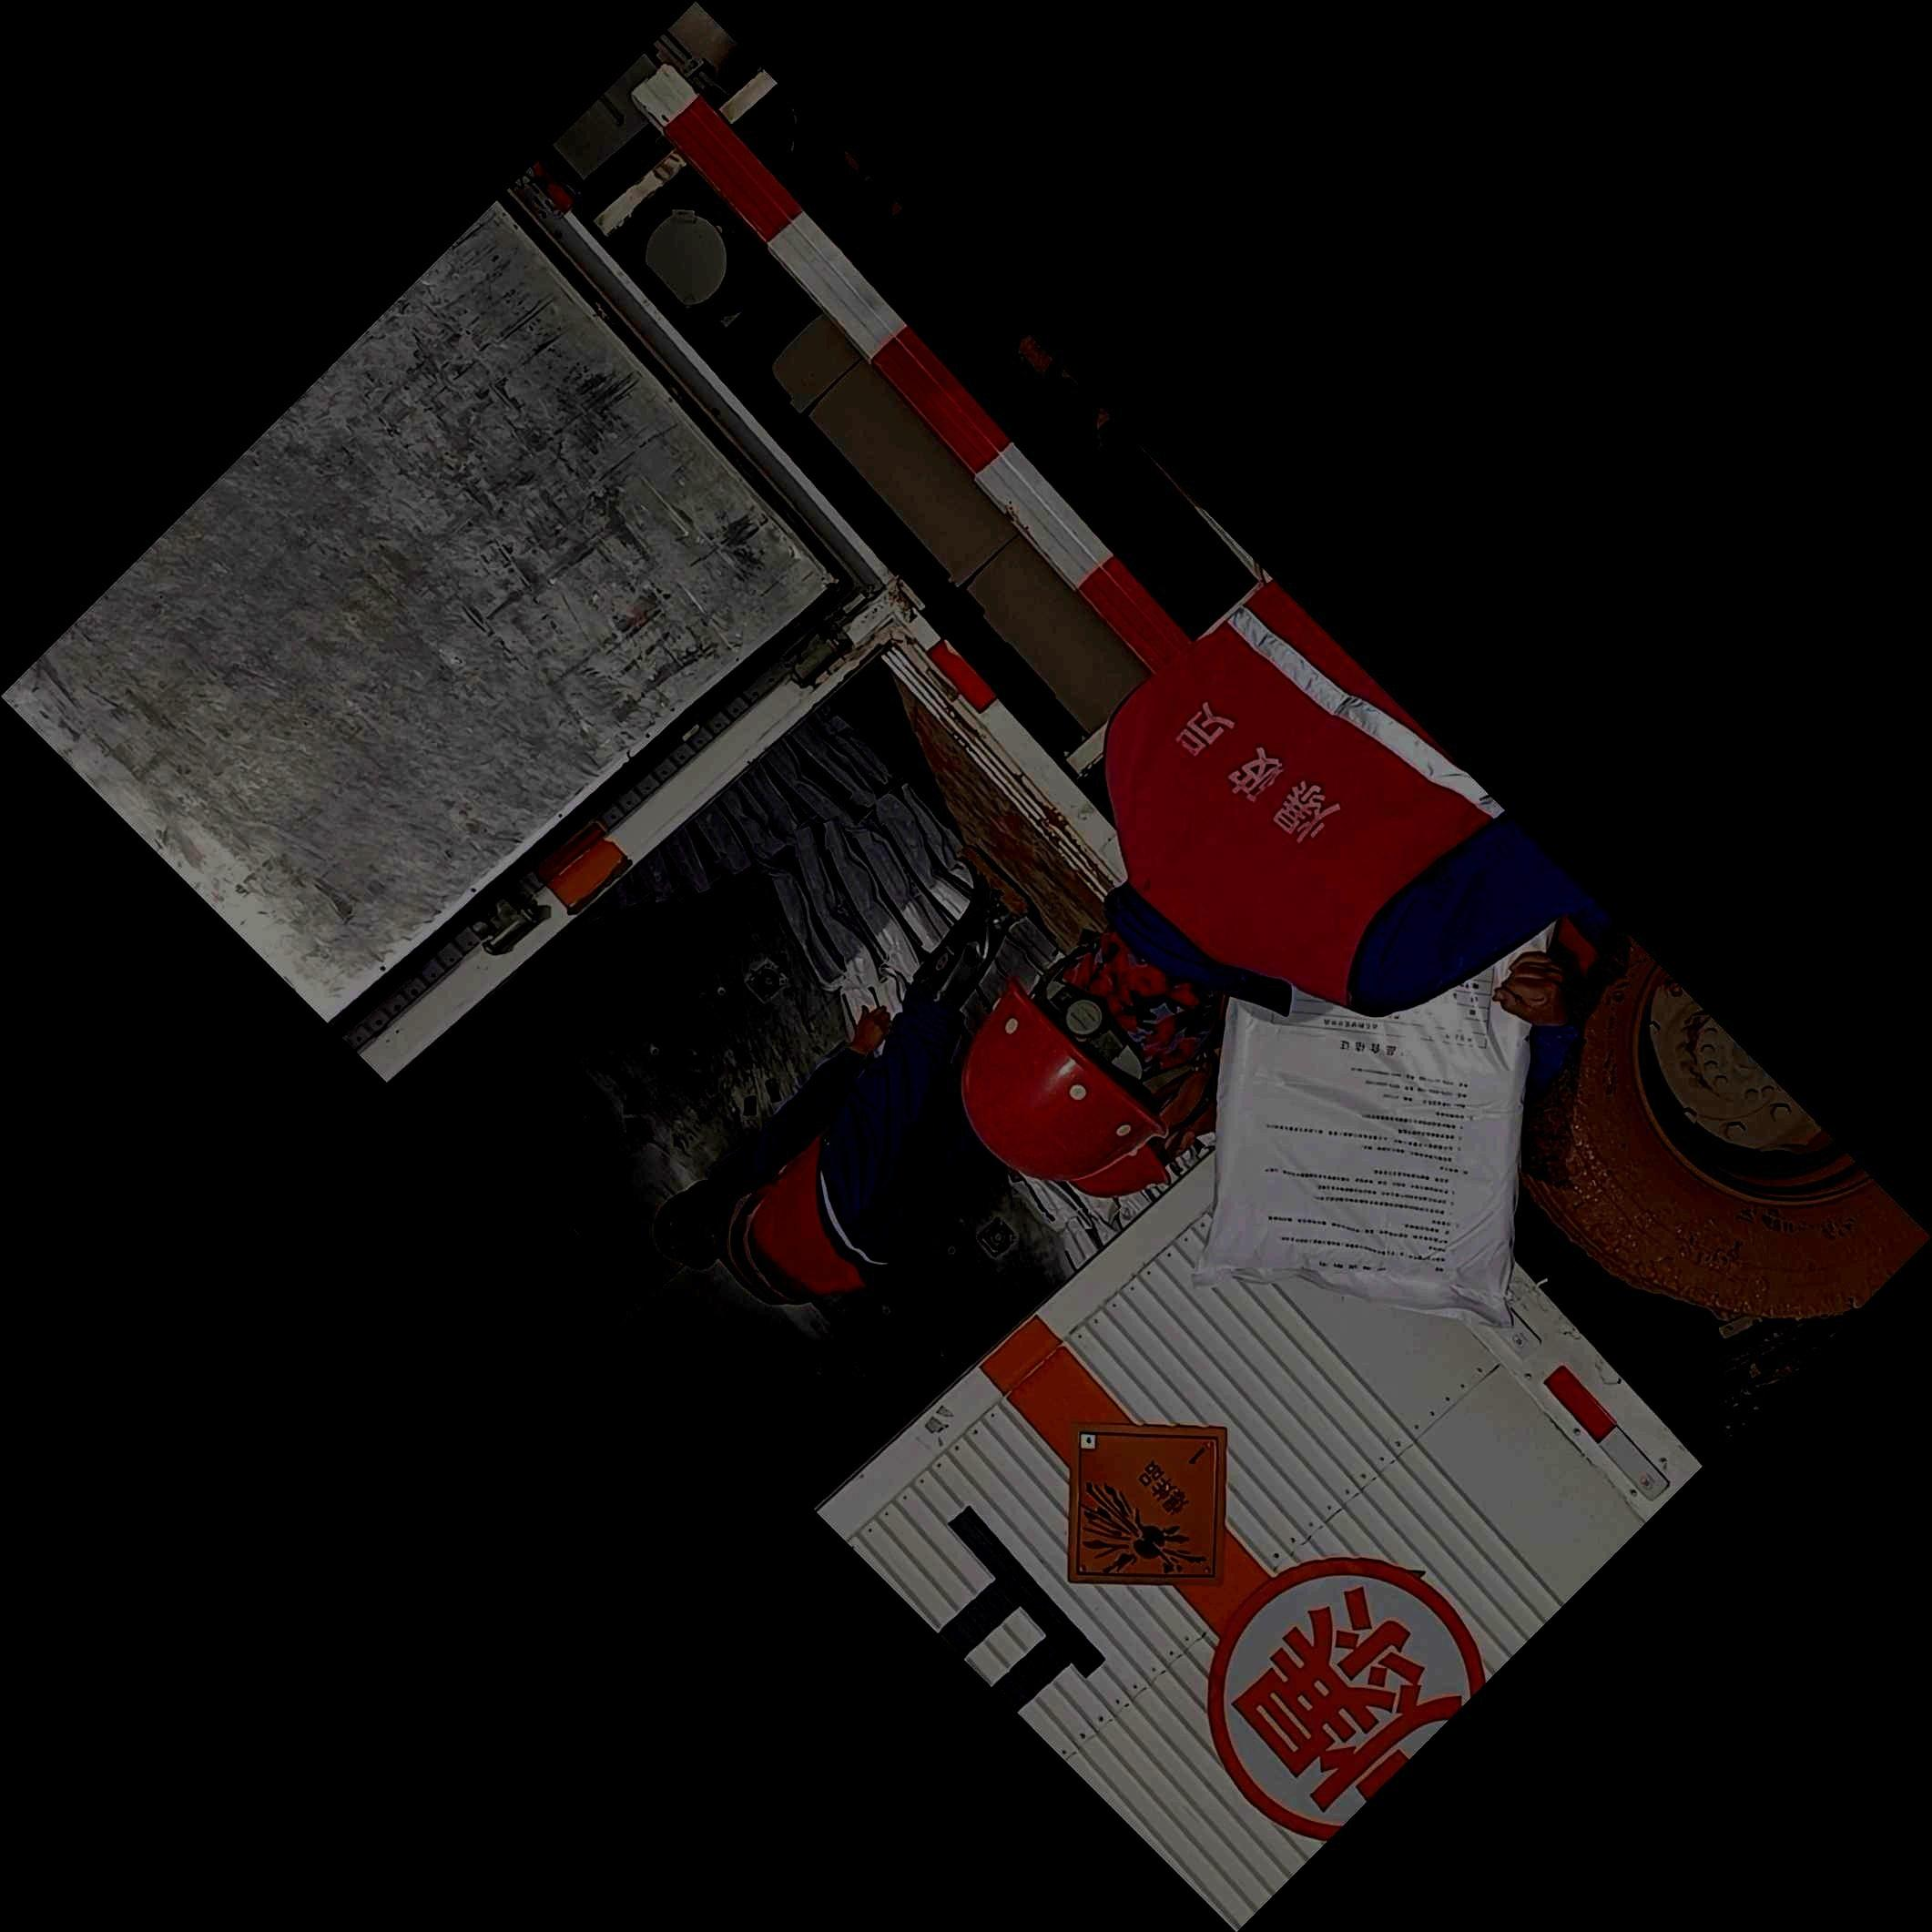helmet: (959, 927, 1207, 1182), (1067, 1077, 1219, 1198)
